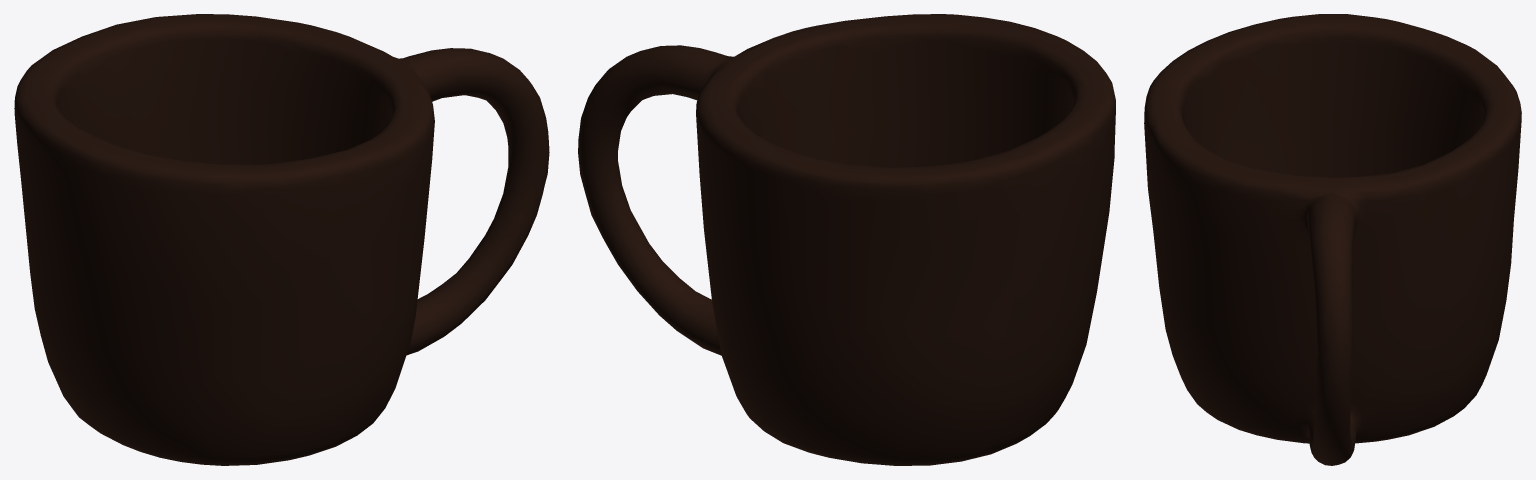
Rendered from Cup2_LOD.fbx.
3 renders of one model, left to right at view 1: azimuth 30°, elevation 25°; view 2: azimuth 150°, elevation 25°; view 3: azimuth 270°, elevation 25°, orthographic. The views are drawn at different scales.
Visible parts, largest first — view 1: Cup2_LOD0; view 2: Cup2_LOD0; view 3: Cup2_LOD0.
Boxes of the visible parts, x1=… form: Cup2_LOD0: x1=14, y1=14, x2=549, y2=465; Cup2_LOD0: x1=578, y1=14, x2=1115, y2=465; Cup2_LOD0: x1=1144, y1=14, x2=1521, y2=465.
Size of what is drawn, in the model's own units: 0.1285 by 0.0775 by 0.0903.
